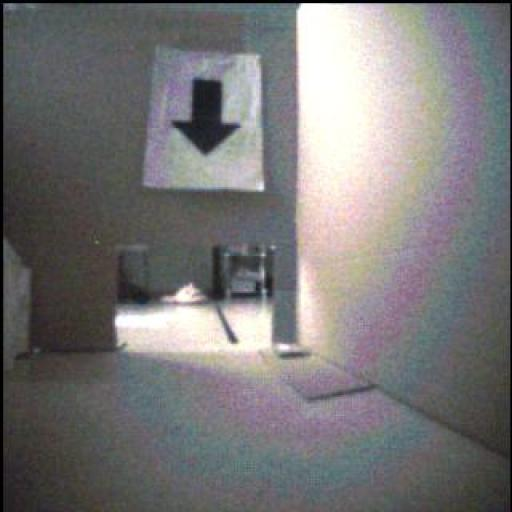arrow: (174, 80, 241, 155)
